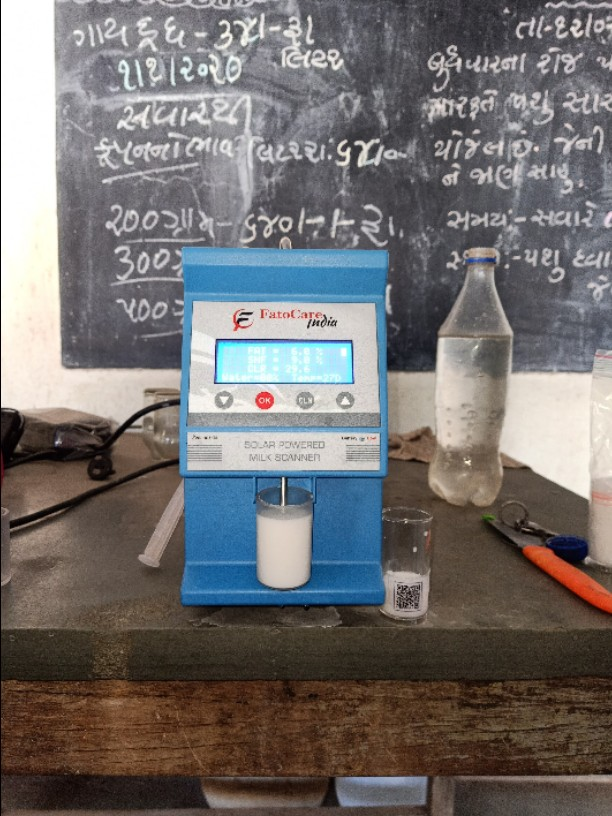lcd: (214, 340, 358, 388)
qr: (391, 578, 426, 613)
